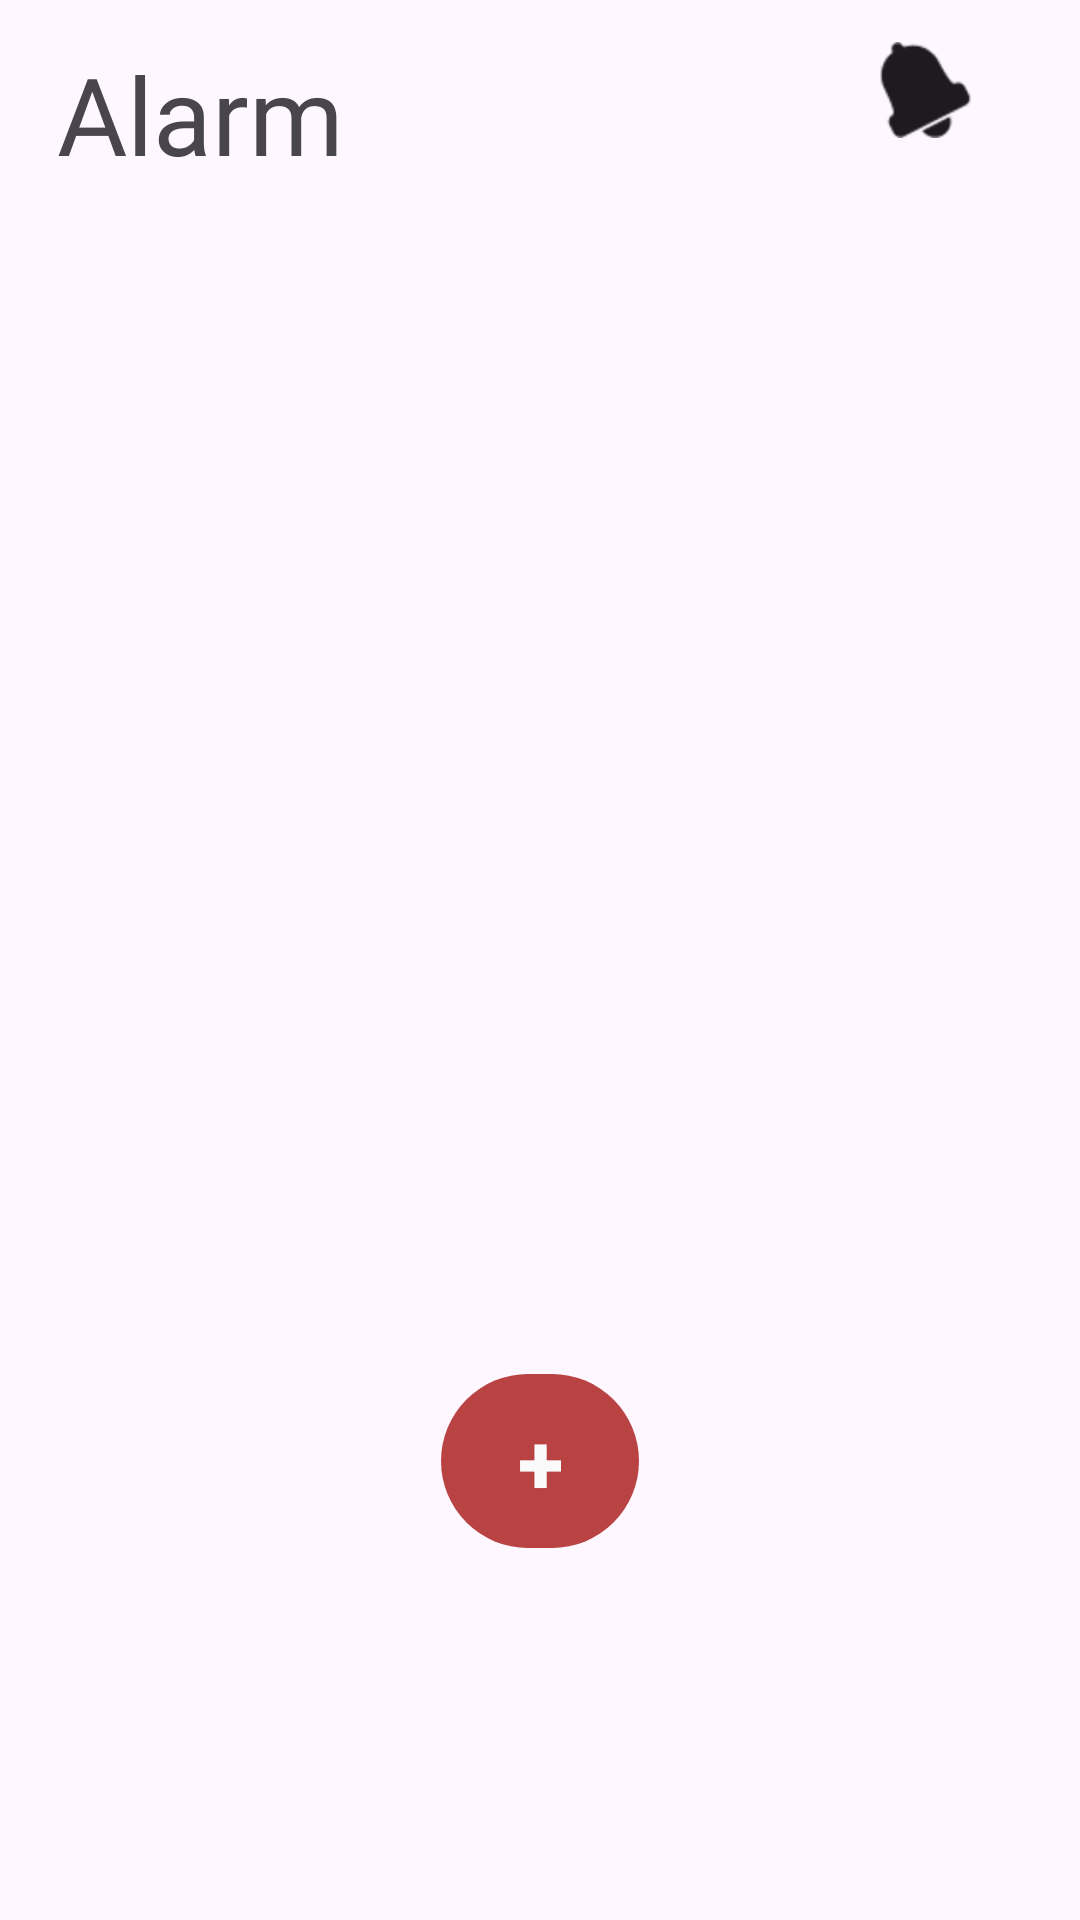

Where to tap for icons on this 1080px x 1920px app screen, as point (x, y):
popup reminder: point (925, 90)
